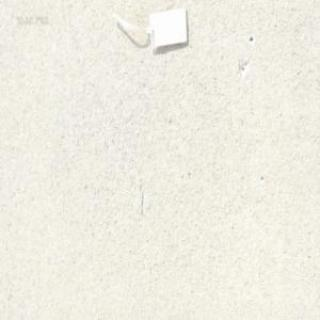LuggageTagtrack_idkeyframe: (108, 5, 188, 55)
